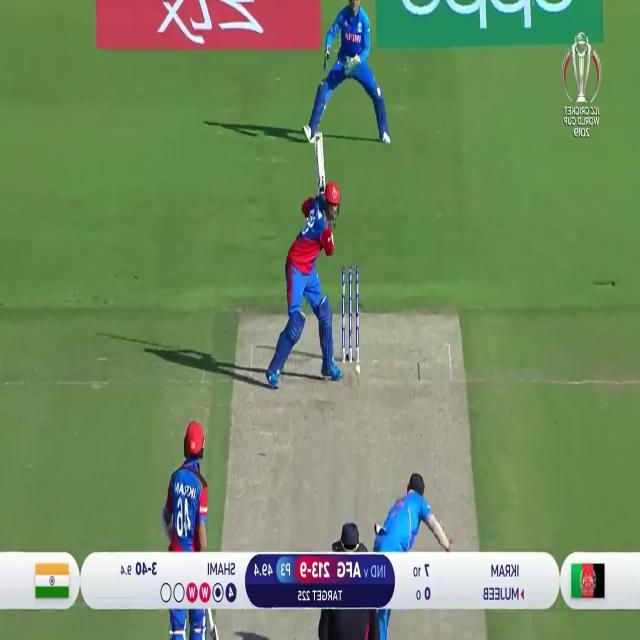ball: (354, 358, 360, 373)
